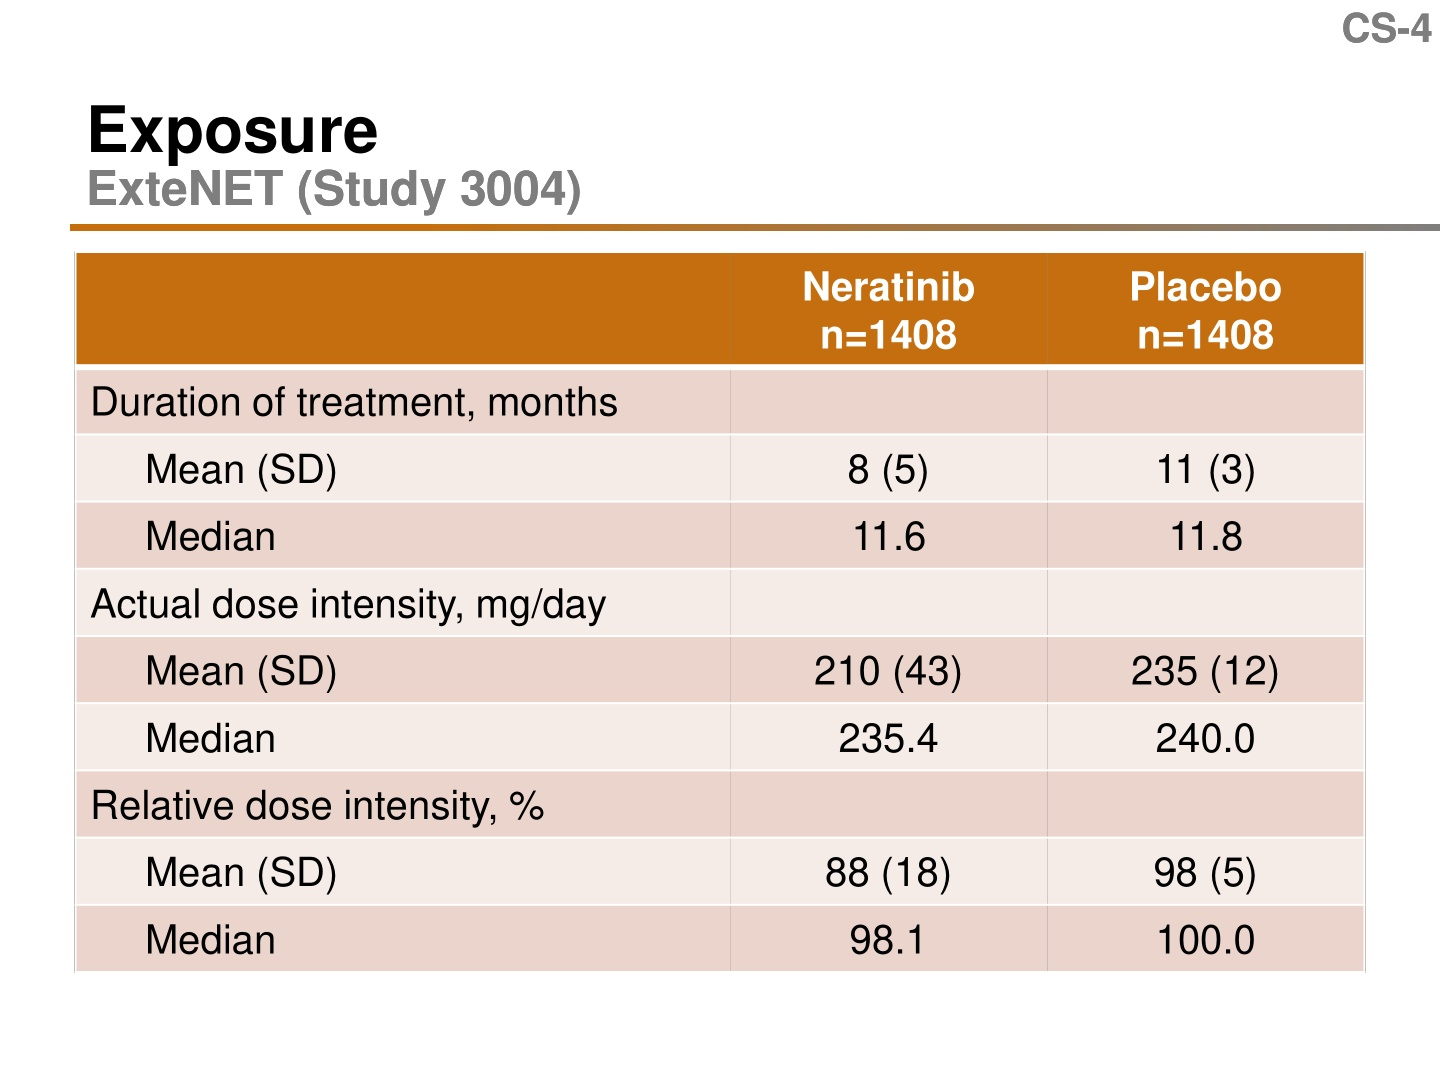full_lined: (73, 252, 1367, 973)
